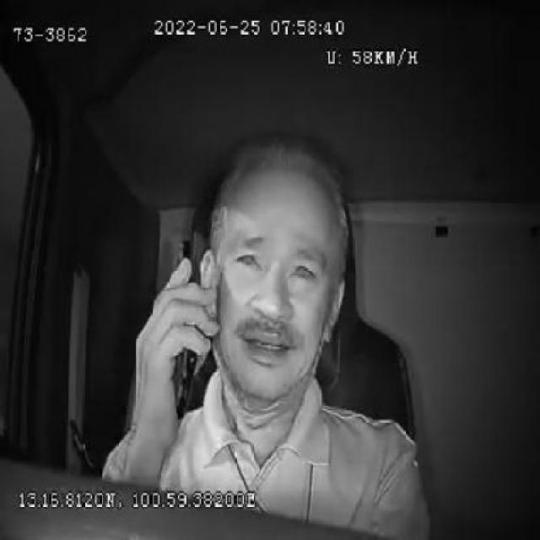phone: (147, 234, 202, 419)
